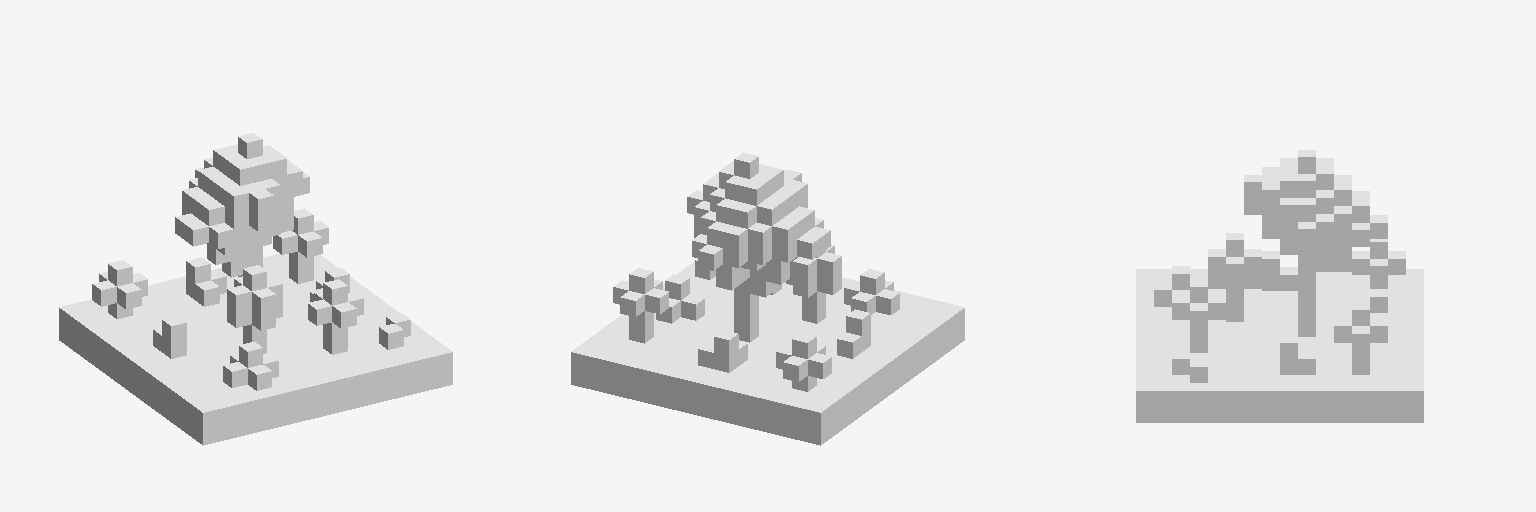
File: Forest_2.obj
The picture shows the model from 3 angles: view 1: azimuth 30°, elevation 25°; view 2: azimuth 150°, elevation 25°; view 3: azimuth 270°, elevation 25°; orthographic projection.
Visible parts, largest first — view 1: object 1; view 2: object 1; view 3: object 1.
Boxes of the visible parts, x1,y1,x2,y2 form: object 1: [59, 133, 452, 445]; object 1: [571, 152, 964, 445]; object 1: [1136, 150, 1423, 422].
Size of the model in its own units: 1.6 by 1.3 by 1.6.